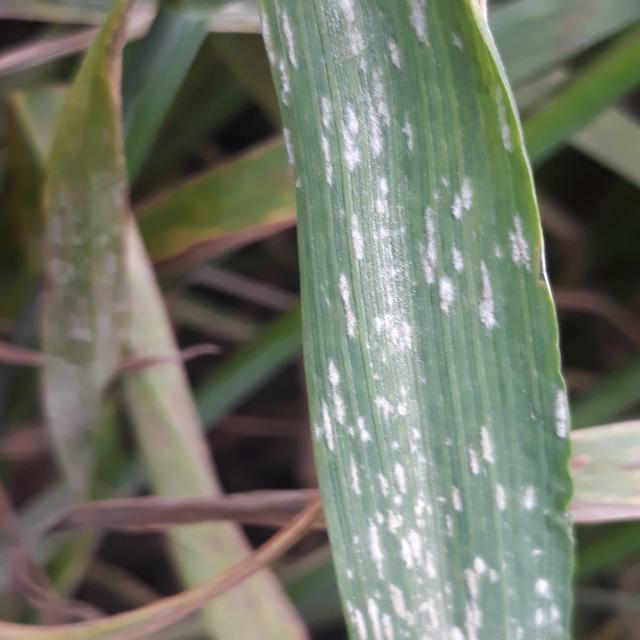powder_mildew: (244, 0, 581, 640), (23, 0, 165, 496)
